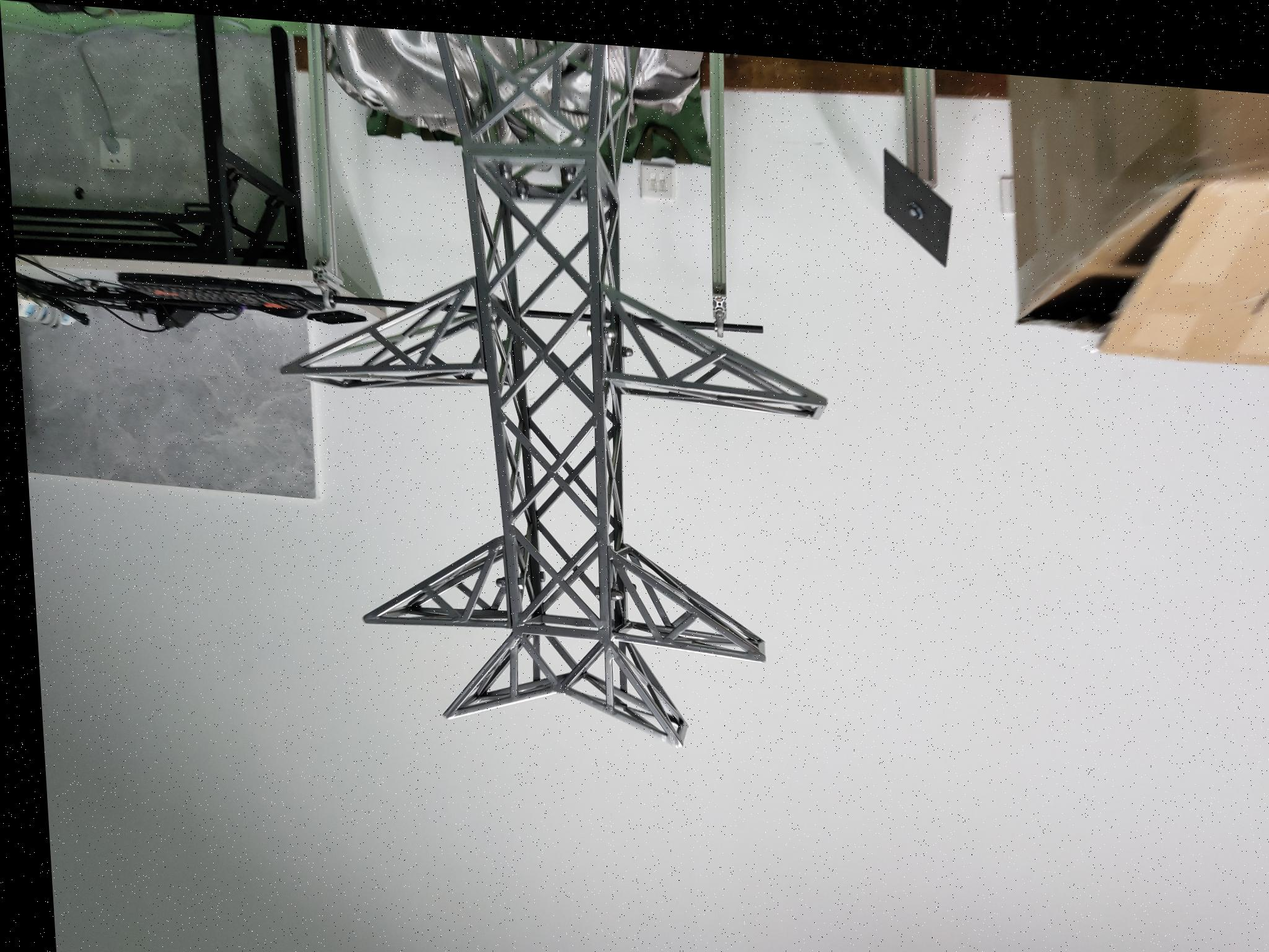tower: (270, 20, 845, 756)
